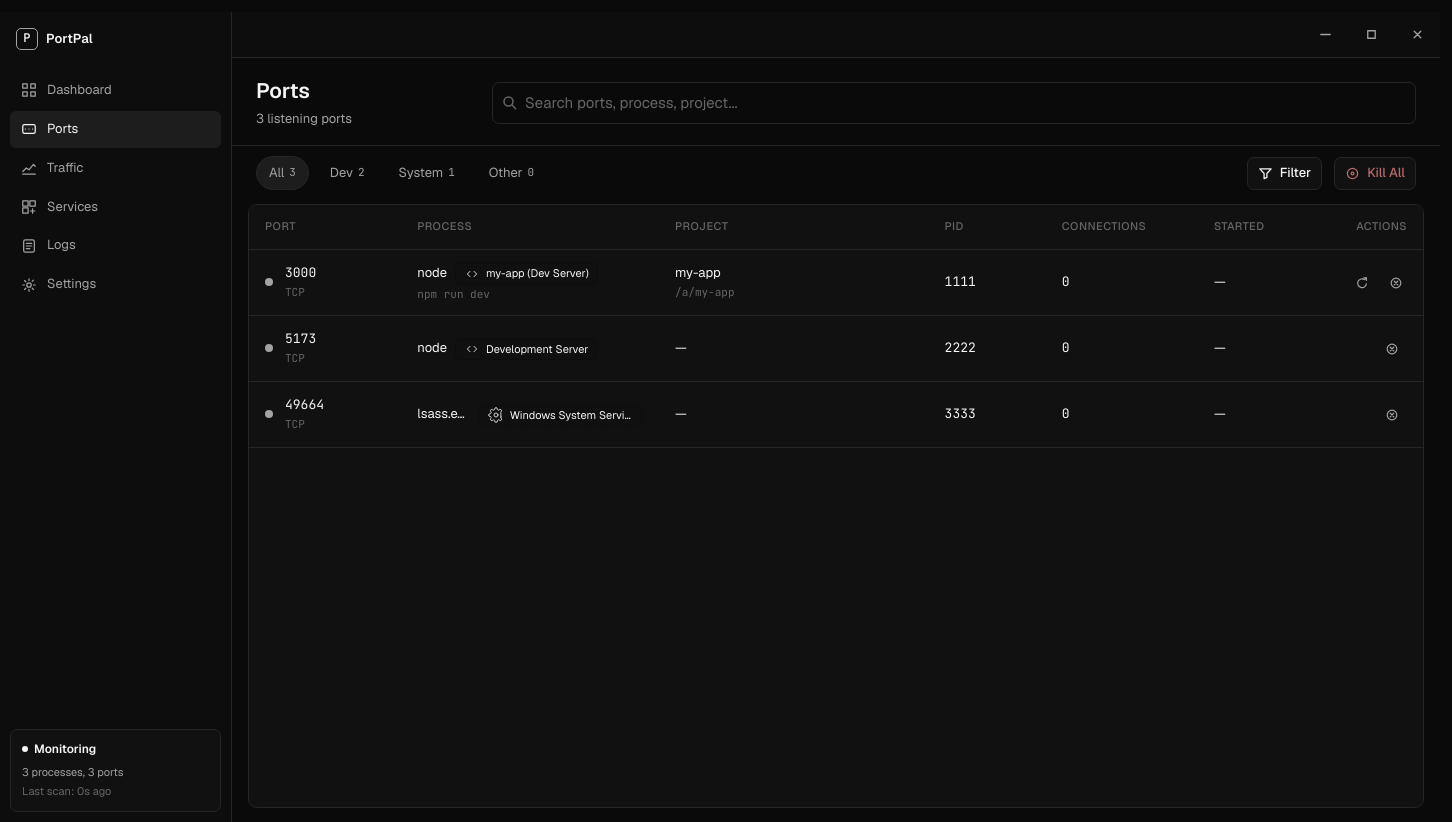
Scenario: App integration - invoke + ports › filters by search and Dev/System tabs
The width and height of the screenshot is (1452, 822).
Check: the text "3000" is shown, box [285,264,316,283]
# Search by process_name
Type "lsass" into the search field with placeholder "Search ports, process, project..." at (954, 103), box [492,82,1416,124]
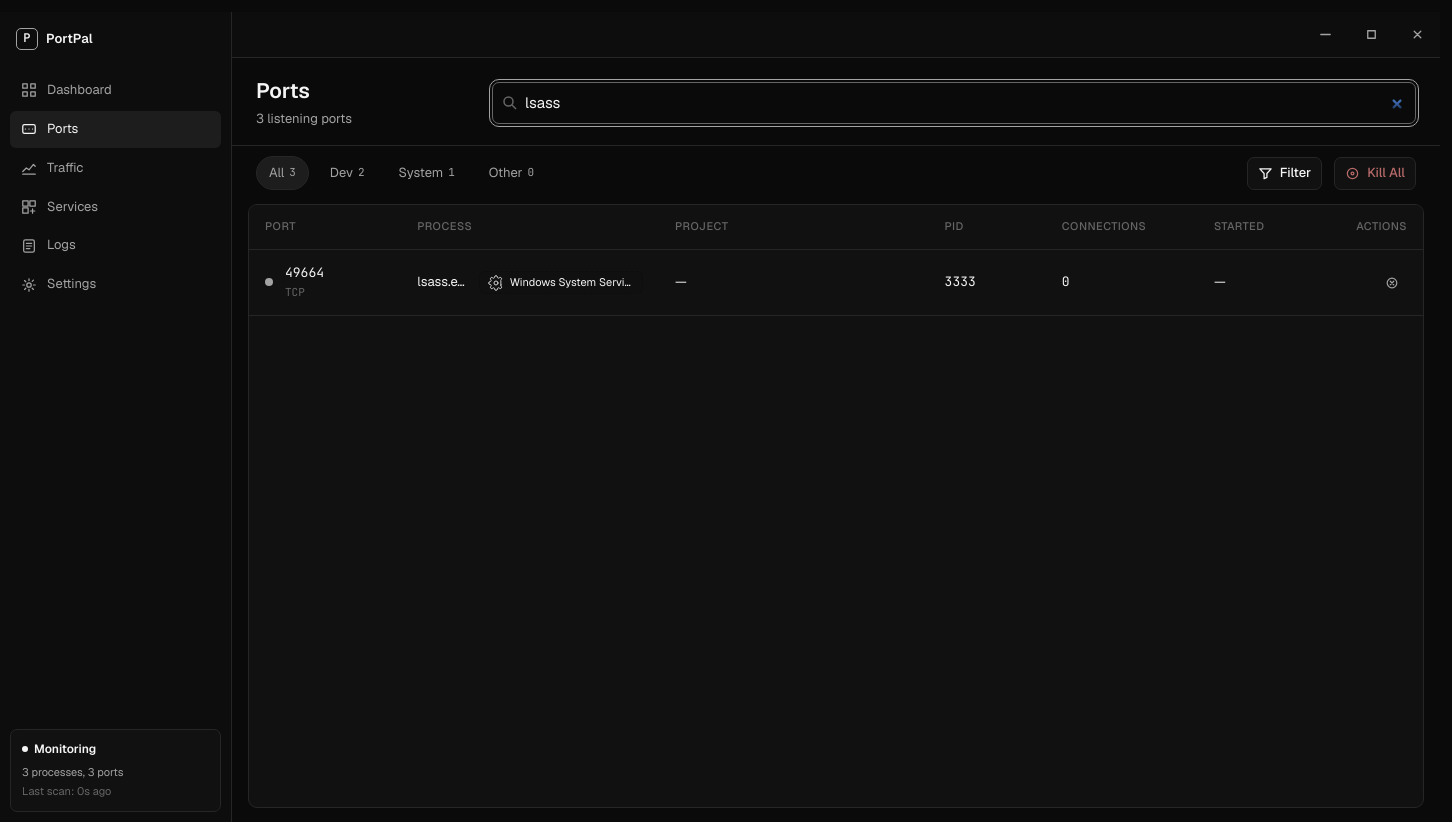
Check: the text "49664" is shown, box [285,264,324,283]
Check: the text "3000" is gone
Clear the search field with placeholder "Search ports, process, project..." at (954, 103), box [492,82,1416,124]
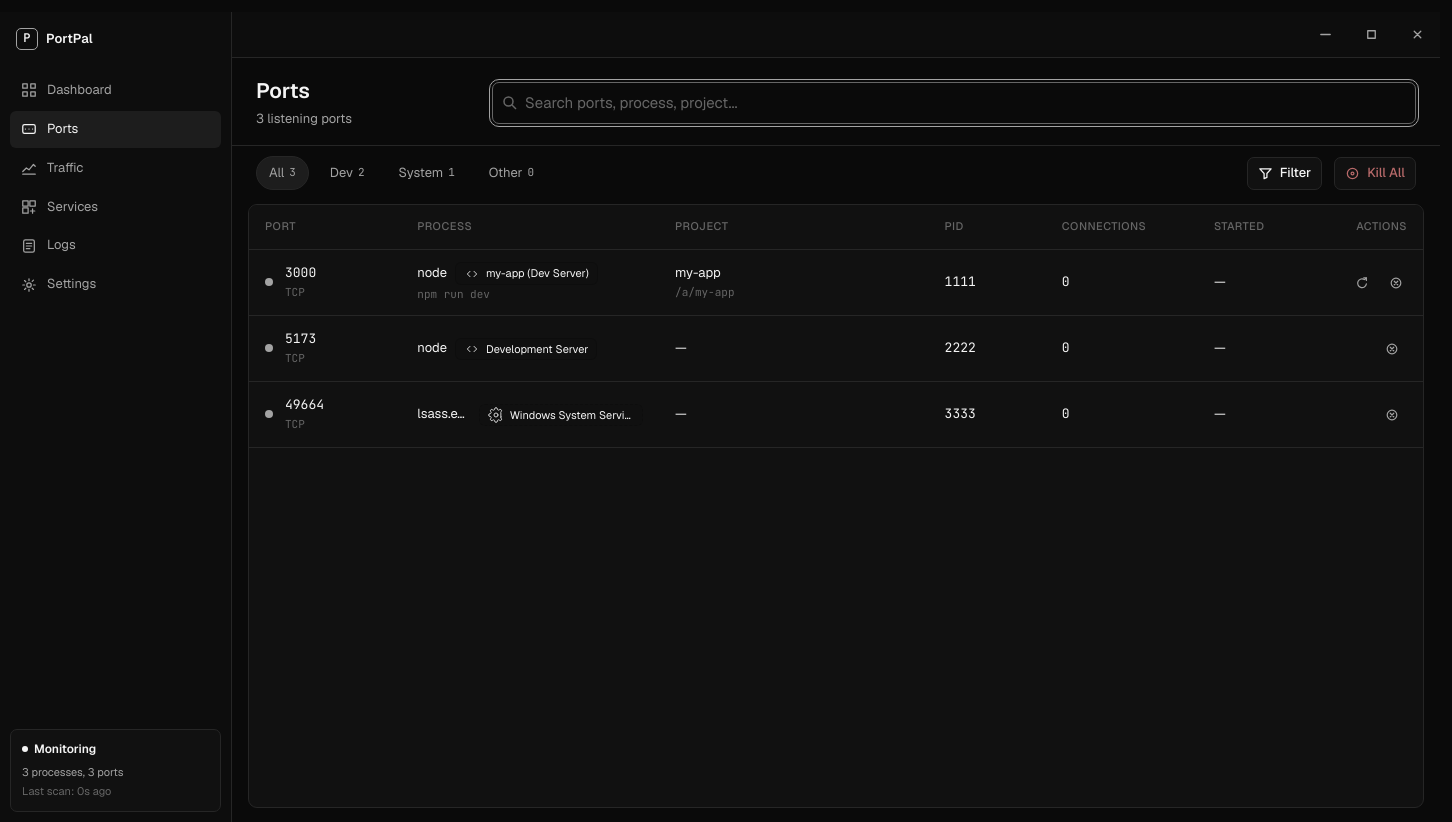
# Dev tab should hide lsass (non-dev)
Click the text "Dev" at (341, 173), box [330,164,353,183]
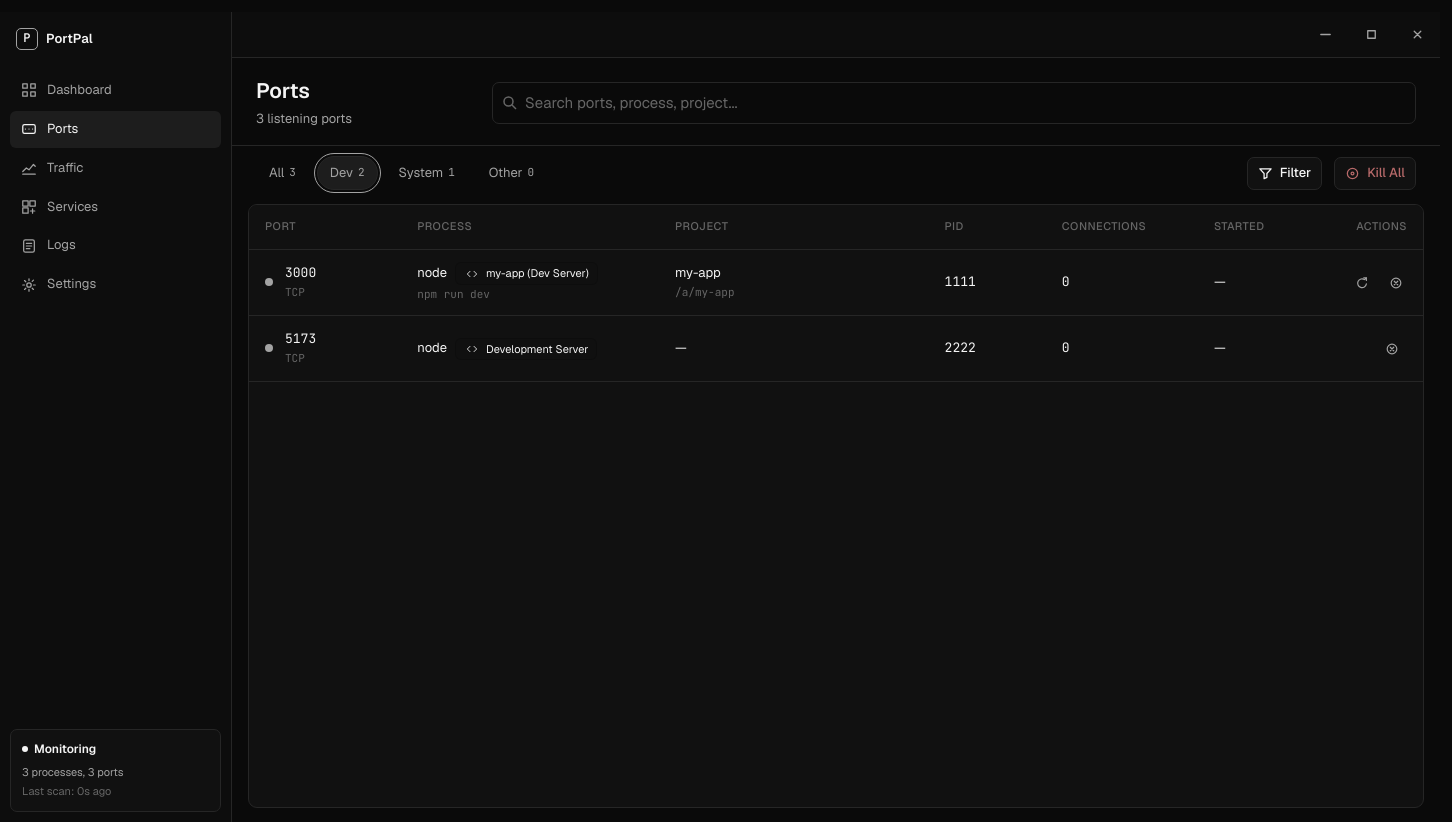
Check: the text "3000" is shown, box [285,264,316,283]
Check: the text "49664" is gone
# System tab should show only infrastructure ports.
Click the text "System" at (421, 173), box [399,164,443,183]
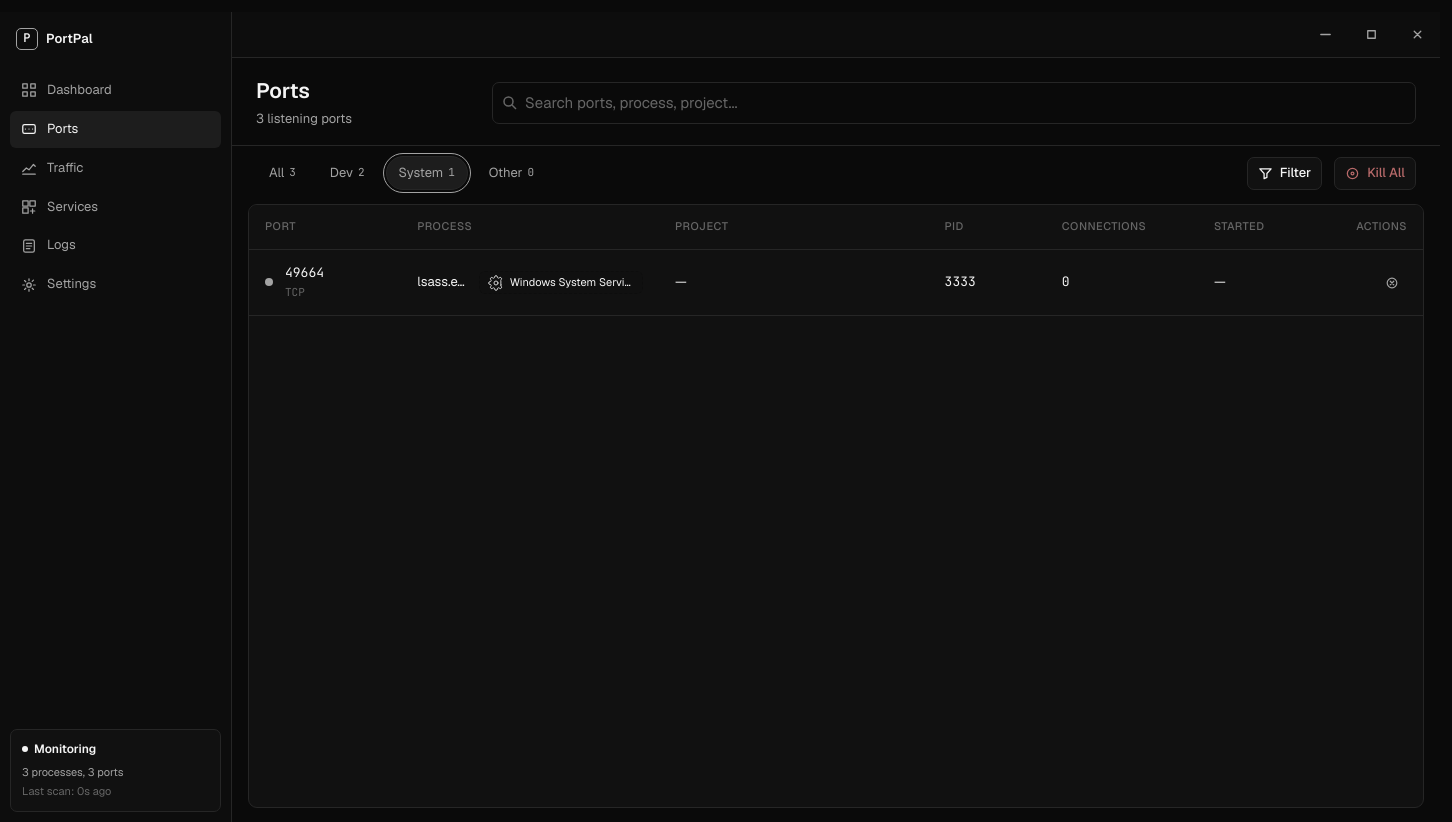
Check: the text "49664" is shown, box [285,264,324,283]
Check: the text "3000" is gone
